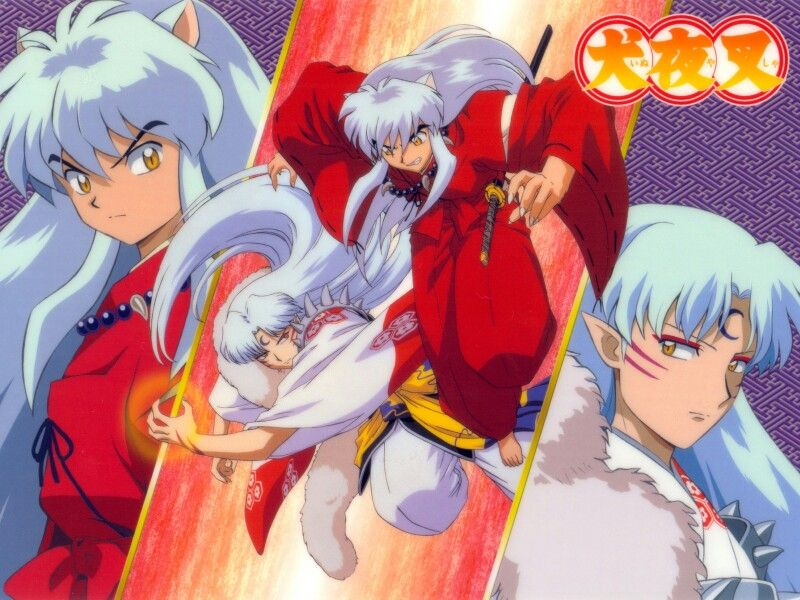sesshomaru: (534, 202, 800, 509), (206, 284, 364, 388)
